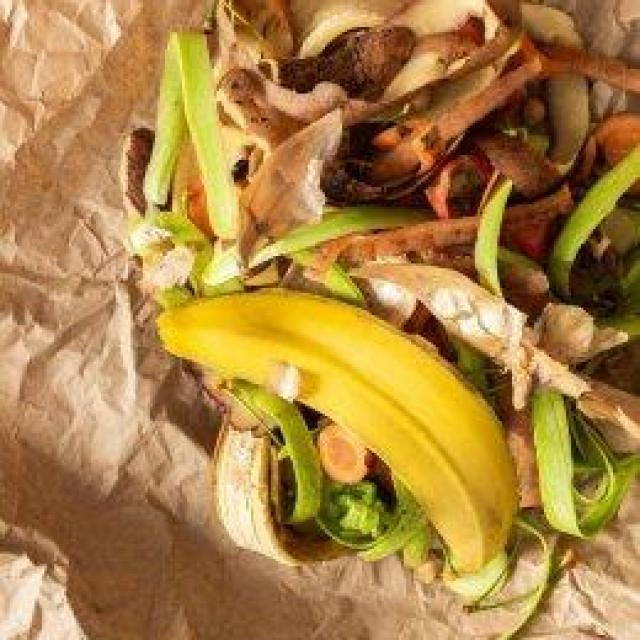Garbage: (121, 0, 639, 640), (159, 289, 517, 571)
